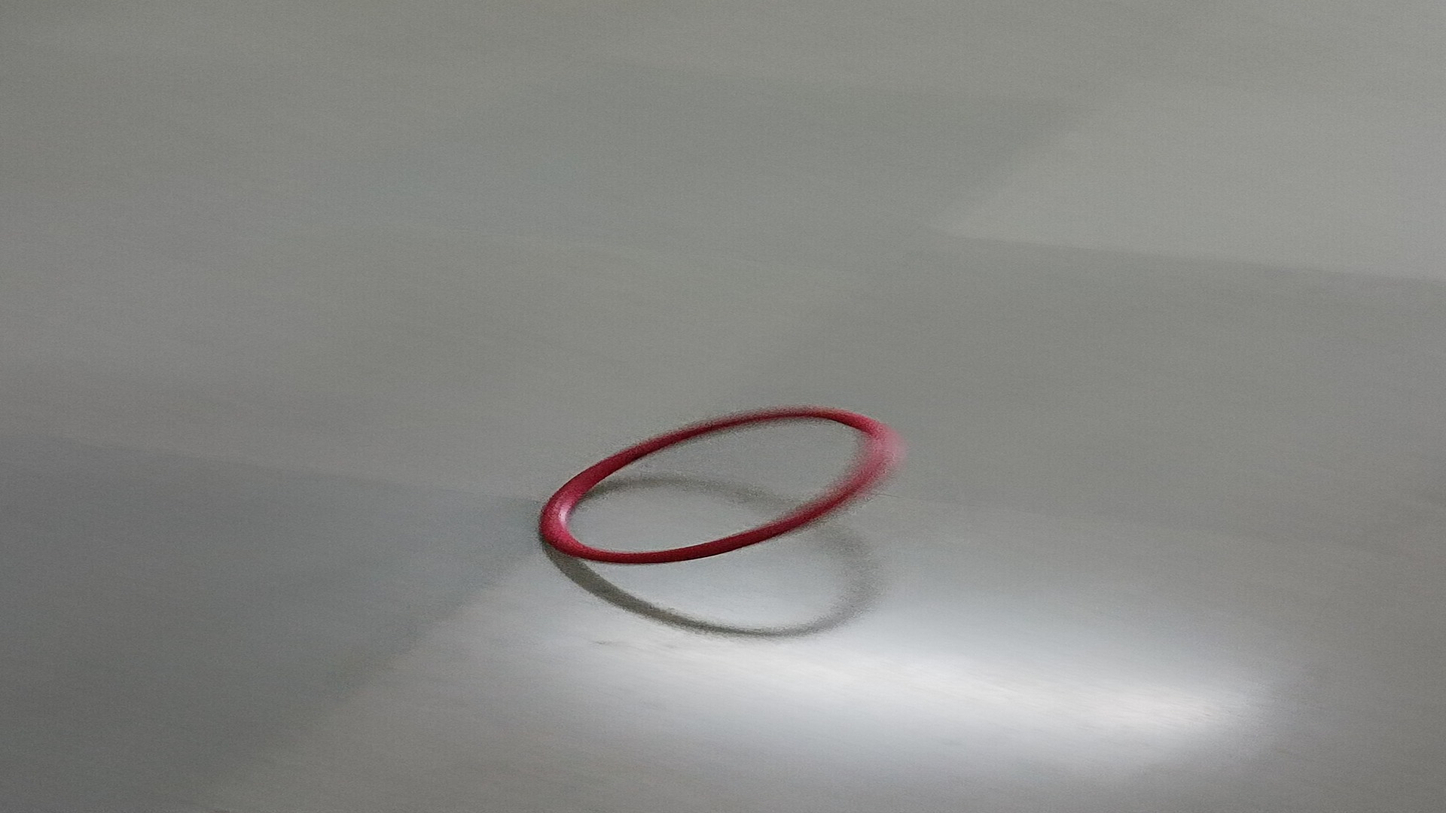Red ring: (545, 411, 891, 557)
